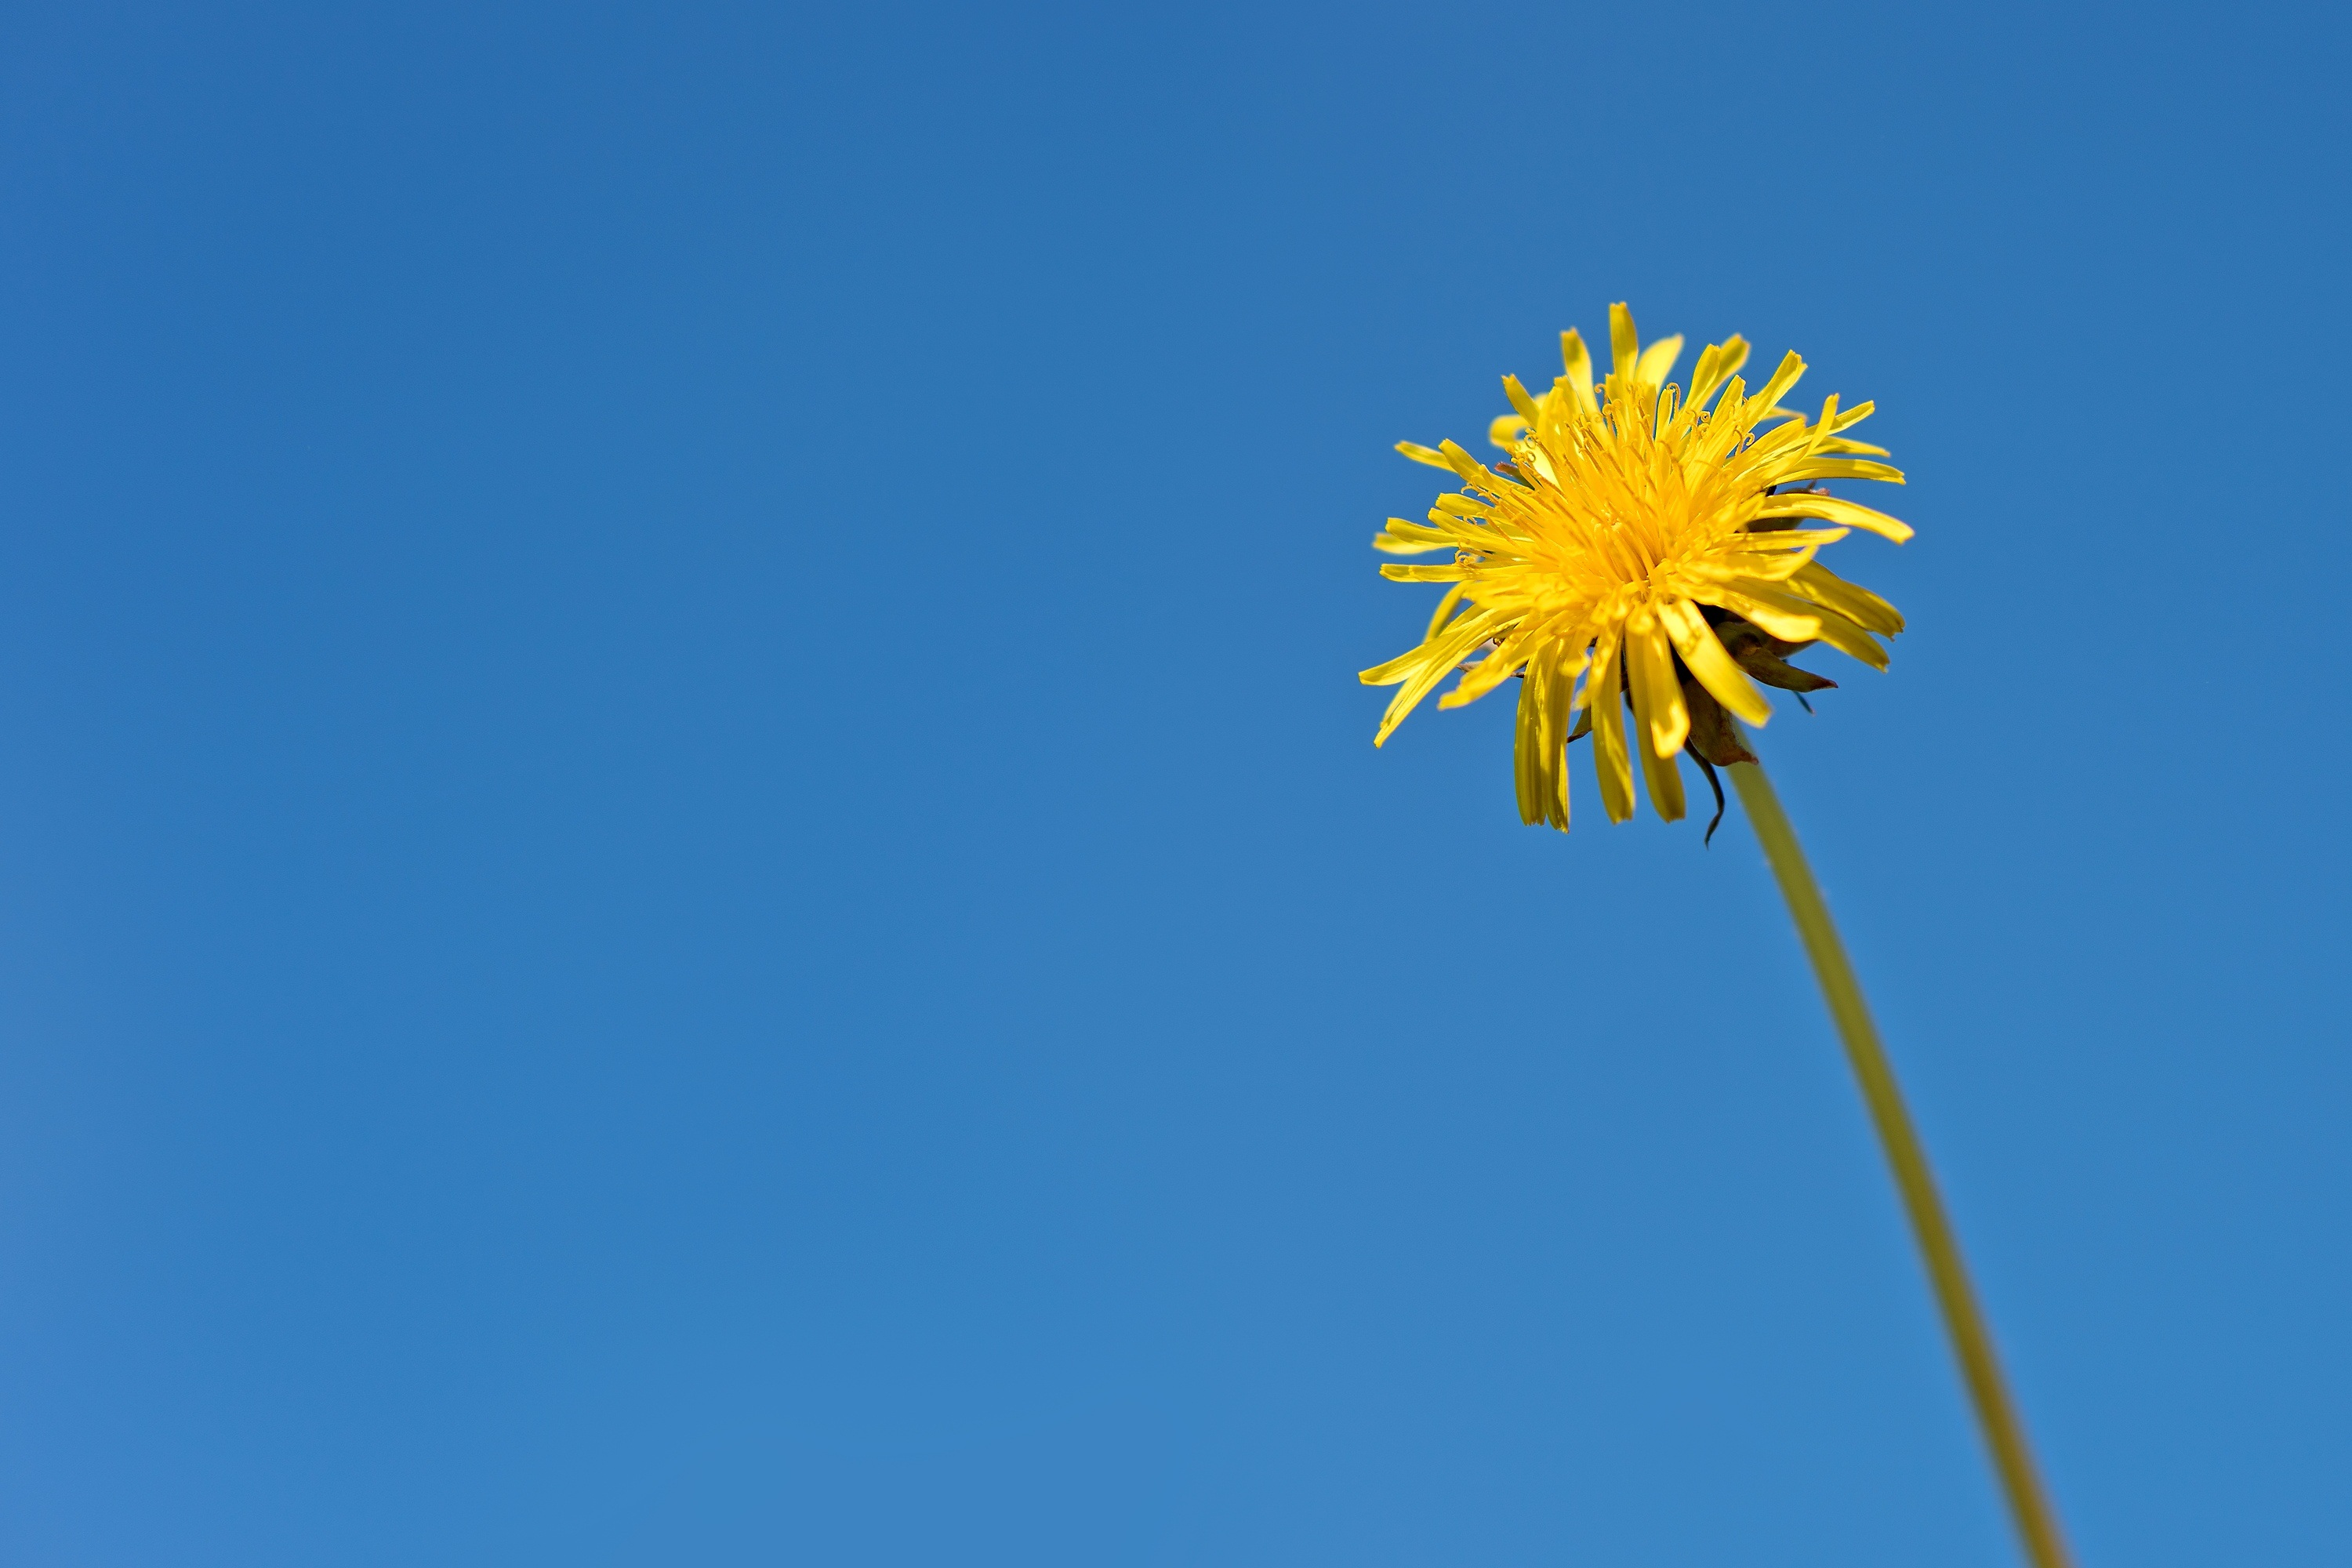dandelion: (1375, 324, 1883, 739)
